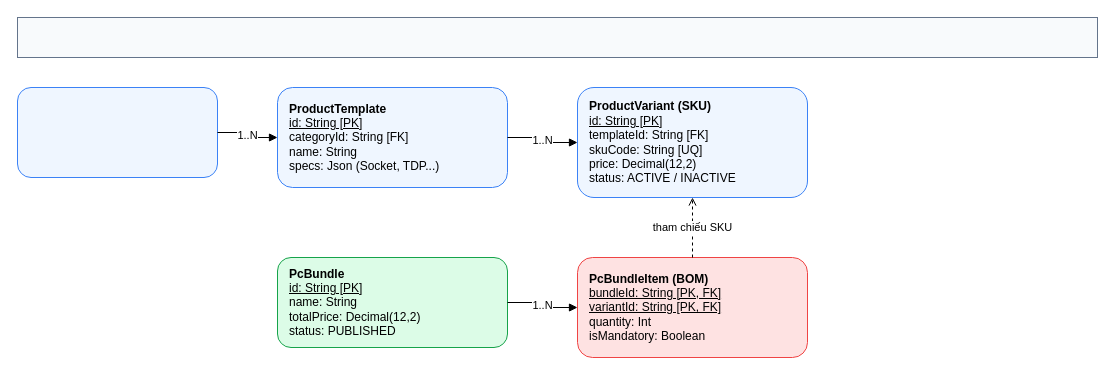
This 1115x375 diagram has some shape labels left out. Here are the shapes that lost their labels. From the top down, the centre of each, then its label:
the point at 557,37: ERD CHI TIẾT: DANH MỤC, SKU, PC BUNDLE VÀ ĐỊNH GIÁ KHUYẾN MÃI
the point at 117,132: Category id: String [PK] name: String slug: String [UQ]
